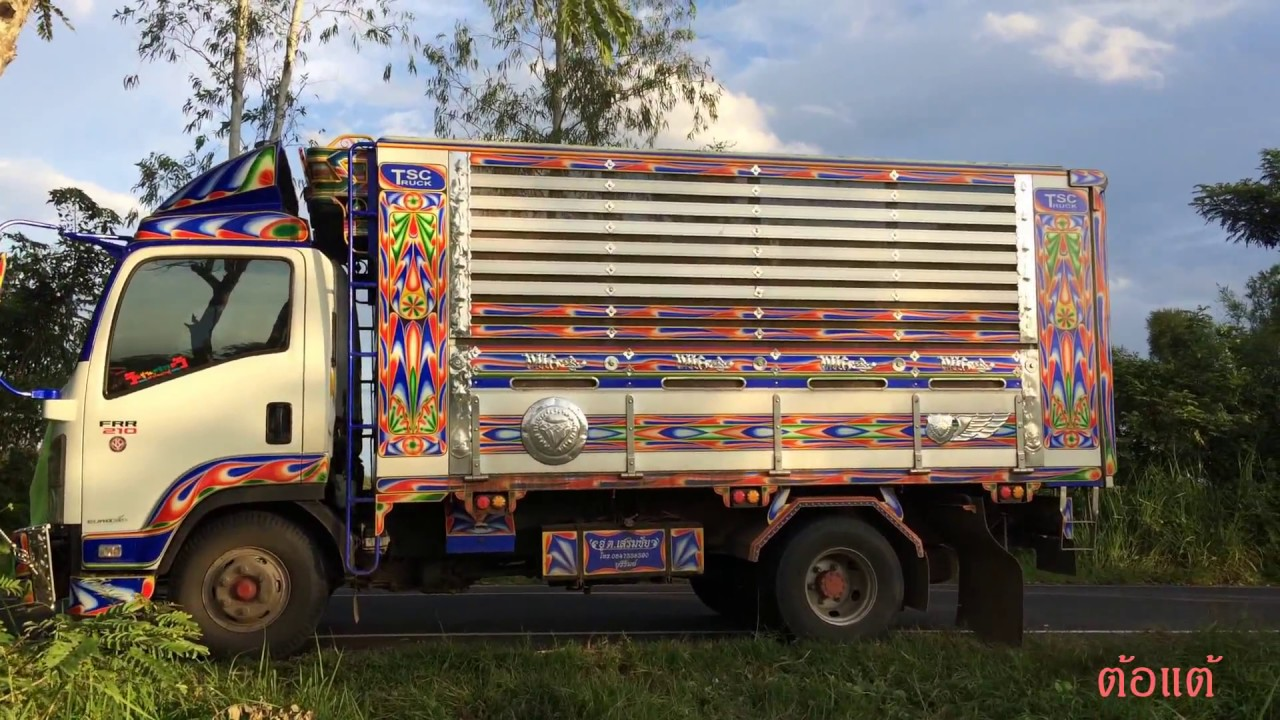truck: (47, 131, 1115, 634)
